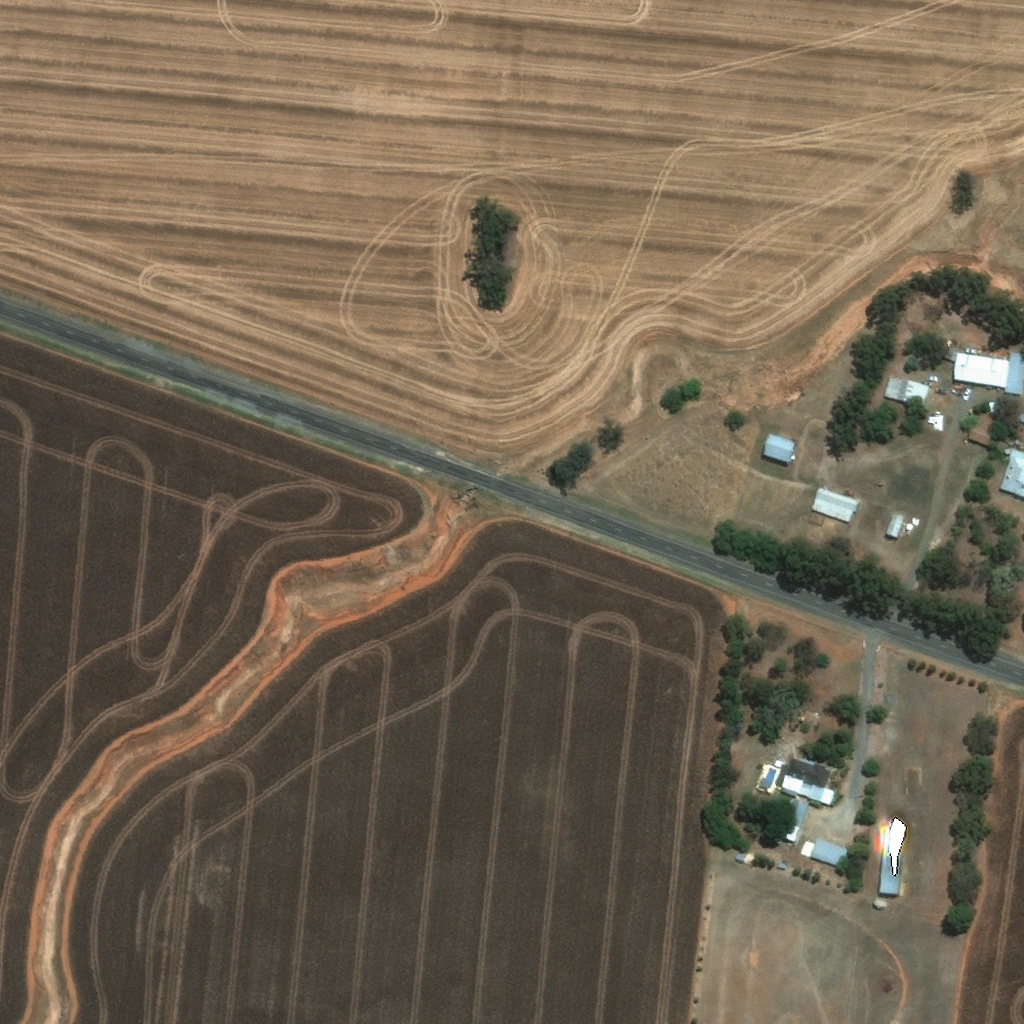0 no-damage: (941, 345, 1023, 396), (777, 755, 834, 807), (876, 822, 904, 899), (808, 485, 858, 526), (881, 373, 929, 407), (808, 835, 848, 869), (760, 431, 798, 465), (998, 448, 1023, 496), (751, 759, 782, 797), (967, 424, 993, 446), (883, 512, 904, 539), (783, 822, 800, 843), (798, 841, 813, 859), (1012, 411, 1023, 425), (734, 853, 744, 864), (872, 898, 883, 908), (776, 862, 786, 870), (987, 401, 993, 413), (909, 519, 917, 528), (903, 524, 910, 532)
